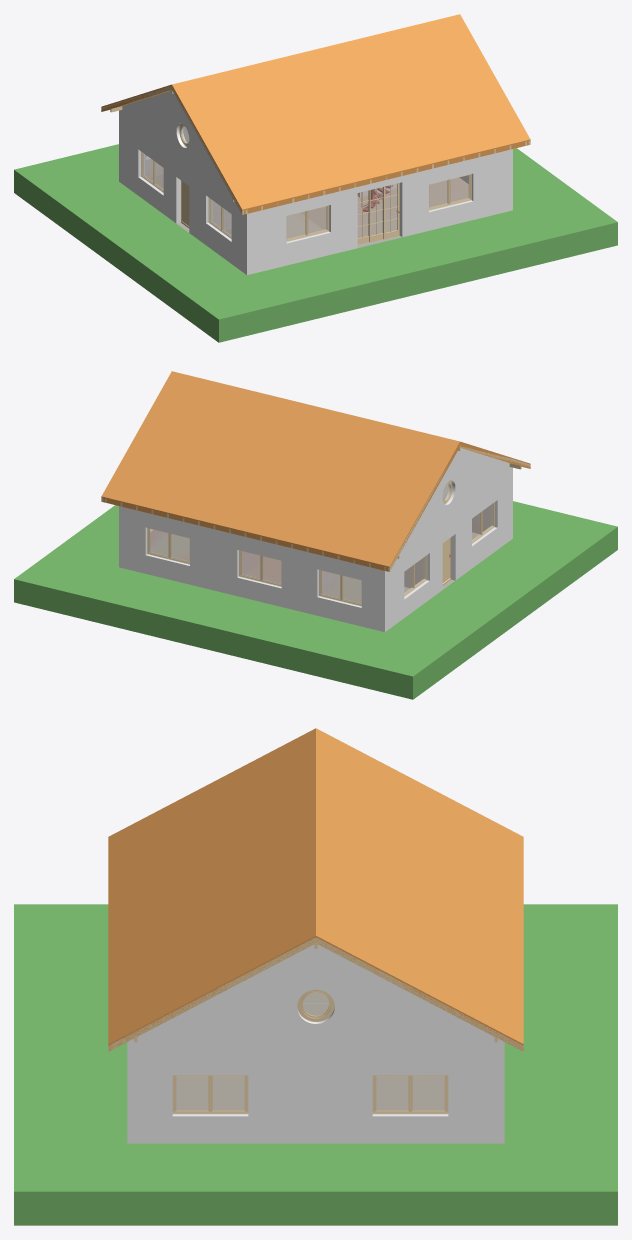
The picture shows the model from 3 angles, top to bottom: view 1: azimuth 30°, elevation 25°; view 2: azimuth 150°, elevation 25°; view 3: azimuth 270°, elevation 25°; orthographic projection. The views are drawn at different scales.
Visible parts, largest first — view 1: 0KMpiAlnb52RgQuM1CwVfd, 2IxUUNUVPB6Ob$eicCfP2N, 16DNNqzfP2thtfaOflvsKA, 3rPX_Juz59peXXY6wDJl18, 0knNIAVBPBFvBy_m5QVHsU, 1pPHnf7cXCpPsNEnQf8_6B, 1M$gxUrX1Fiwe3P64ww7U5, 25nJxEpYf8LRDJNkMUVO0m, 3BFcylCsX74PQAoRAe5fNv, 0B1RwEzzP3CfME5NR$Vqh5, 1srAI$R4T8ihLXSNHmUSET; view 2: 07Enbsqm9C7AQC9iyBwfSD, 0KMpiAlnb52RgQuM1CwVfd, 1bzfVsJqn8De5PukCrqylz, 3rPX_Juz59peXXY6wDJl18, 0knNIAVBPBFvBy_m5QVHsU, 1pPHnf7cXCpPsNEnQf8_6B, 1DiYqhfzH9xxuJdVHwXCNa, 2Q9w7oRXP249jBobEMVqlZ, 1TAI4ouKX4Xx4lBDZIu5qM, 1srAI$R4T8ihLXSNHmUSET, 0B1RwEzzP3CfME5NR$Vqh5; view 3: 0KMpiAlnb52RgQuM1CwVfd, 07Enbsqm9C7AQC9iyBwfSD, 2IxUUNUVPB6Ob$eicCfP2N, 25fsbPyk15VvuXI$yNKenK, 3VCarUKgH1buLo22Ozxe6J, 1pPHnf7cXCpPsNEnQf8_6B, 2EQh_jhP1B_A_AMuSJc5E0, 13aSY79zb8fP4HApEJ0z_e, 2CxE0$jXr8iOH1VC2gLCXX, 2in0QvfYXEawl1f3MP1bq2, 2ACmFFQhT1Ouf0x4YRUh9m.
Boxes of the visible parts, x1,y1,x2,y2 form: 0KMpiAlnb52RgQuM1CwVfd: [14, 144, 617, 342]; 2IxUUNUVPB6Ob$eicCfP2N: [172, 14, 530, 214]; 16DNNqzfP2thtfaOflvsKA: [247, 149, 512, 274]; 3rPX_Juz59peXXY6wDJl18: [119, 119, 246, 274]; 0knNIAVBPBFvBy_m5QVHsU: [119, 91, 236, 204]; 1pPHnf7cXCpPsNEnQf8_6B: [149, 174, 468, 247]; 1M$gxUrX1Fiwe3P64ww7U5: [357, 183, 399, 244]; 25nJxEpYf8LRDJNkMUVO0m: [286, 205, 329, 241]; 3BFcylCsX74PQAoRAe5fNv: [429, 174, 471, 210]; 0B1RwEzzP3CfME5NR$Vqh5: [208, 198, 231, 238]; 1srAI$R4T8ihLXSNHmUSET: [141, 151, 163, 192]; 07Enbsqm9C7AQC9iyBwfSD: [101, 371, 459, 571]; 0KMpiAlnb52RgQuM1CwVfd: [14, 501, 617, 699]; 1bzfVsJqn8De5PukCrqylz: [119, 506, 384, 631]; 3rPX_Juz59peXXY6wDJl18: [385, 476, 512, 631]; 0knNIAVBPBFvBy_m5QVHsU: [395, 448, 512, 561]; 1pPHnf7cXCpPsNEnQf8_6B: [150, 532, 479, 603]; 1DiYqhfzH9xxuJdVHwXCNa: [147, 528, 189, 564]; 2Q9w7oRXP249jBobEMVqlZ: [239, 550, 281, 586]; 1TAI4ouKX4Xx4lBDZIu5qM: [319, 570, 361, 605]; 1srAI$R4T8ihLXSNHmUSET: [404, 555, 427, 596]; 0B1RwEzzP3CfME5NR$Vqh5: [472, 502, 494, 543]; 0KMpiAlnb52RgQuM1CwVfd: [14, 904, 617, 1225]; 07Enbsqm9C7AQC9iyBwfSD: [316, 728, 523, 1051]; 2IxUUNUVPB6Ob$eicCfP2N: [108, 728, 315, 1051]; 25fsbPyk15VvuXI$yNKenK: [127, 1051, 504, 1143]; 3VCarUKgH1buLo22Ozxe6J: [127, 944, 504, 1051]; 1pPHnf7cXCpPsNEnQf8_6B: [176, 1076, 444, 1109]; 2EQh_jhP1B_A_AMuSJc5E0: [172, 1075, 248, 1114]; 13aSY79zb8fP4HApEJ0z_e: [372, 1075, 448, 1114]; 2CxE0$jXr8iOH1VC2gLCXX: [316, 937, 523, 1051]; 2in0QvfYXEawl1f3MP1bq2: [108, 937, 315, 1051]; 2ACmFFQhT1Ouf0x4YRUh9m: [297, 989, 334, 1021].
Bounding box in the file's own units: 18 × 7.32 × 16.
